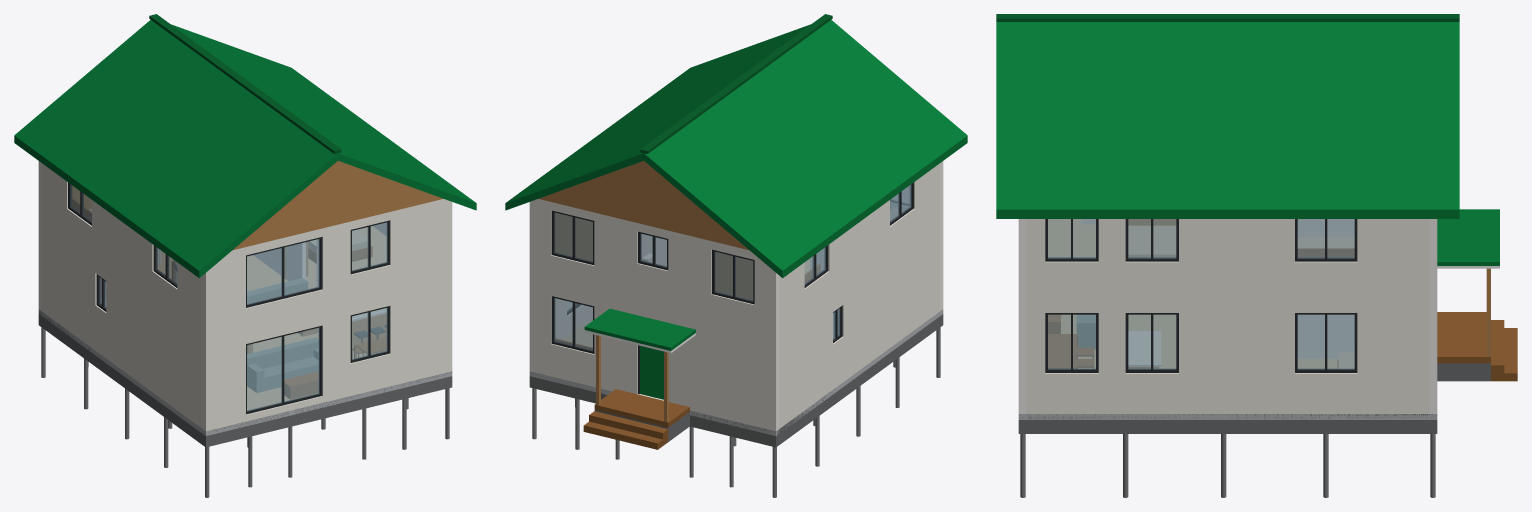
File: dreamhouse_150.glb
3 views of the same model, side by side, from view 1: azimuth 30°, elevation 25°; view 2: azimuth 150°, elevation 25°; view 3: azimuth 270°, elevation 25° (orthographic). The views are drawn at different scales.
Parts seen in each view (by area): view 1: plaster__house, roof__house, glass__house, wood__house, plinth__house, frame__house, fabric__furniture, floor__house, inner__house, pile__house, steel__house, roof_dark__house (+3 smaller); view 2: plaster__house, roof__house, wood__house, glass__house, plinth__house, wood_dark__house, frame__house, inner__house, pile__house, roof_dark__house, steel__house, door__door_leaf; view 3: roof__house, plaster__house, glass__house, plinth__house, inner__house, wood_dark__house, frame__house, roof_dark__house, floor__house, steel__house, fabric2__house, pile__house (+4 smaller).
Part boxes in pixels (x1,y1,x2,y2): plaster__house: (38,161,452,431); roof__house: (14,20,476,278); glass__house: (70,184,387,411); wood__house: (72,161,443,353); plinth__house: (38,310,452,447); frame__house: (68,182,389,414); fabric__furniture: (247,278,318,392); floor__house: (158,226,386,410); inner__house: (39,161,390,430); pile__house: (41,327,449,497); steel__house: (38,309,452,435); roof_dark__house: (149,14,341,153); plaster__house: (529,161,943,431); roof__house: (505,20,967,350); wood__house: (538,161,752,422); glass__house: (554,184,911,350); plinth__house: (529,314,943,447); wood_dark__house: (555,264,820,449); frame__house: (551,182,913,394); inner__house: (552,161,942,430); pile__house: (532,327,940,497); roof_dark__house: (640,14,832,153); steel__house: (529,309,943,435); door__door_leaf: (640,346,663,399); roof__house: (996,22,1499,265); plaster__house: (1018,219,1437,413); glass__house: (1048,219,1354,369); plinth__house: (1018,363,1490,433); inner__house: (1019,219,1436,413); wood_dark__house: (1077,248,1517,381); frame__house: (1045,219,1357,372); roof_dark__house: (996,14,1459,21); floor__house: (1048,219,1337,368); steel__house: (1018,414,1437,419); fabric2__house: (1128,226,1354,368); pile__house: (1020,434,1435,497).
Size of the model in its own units: 9 by 10.08 by 11.7.
